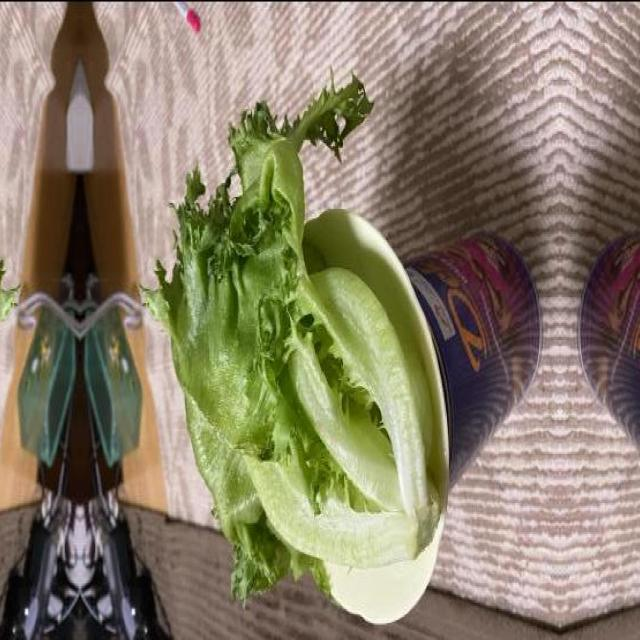healthy: (146, 74, 438, 604), (0, 74, 13, 603)
